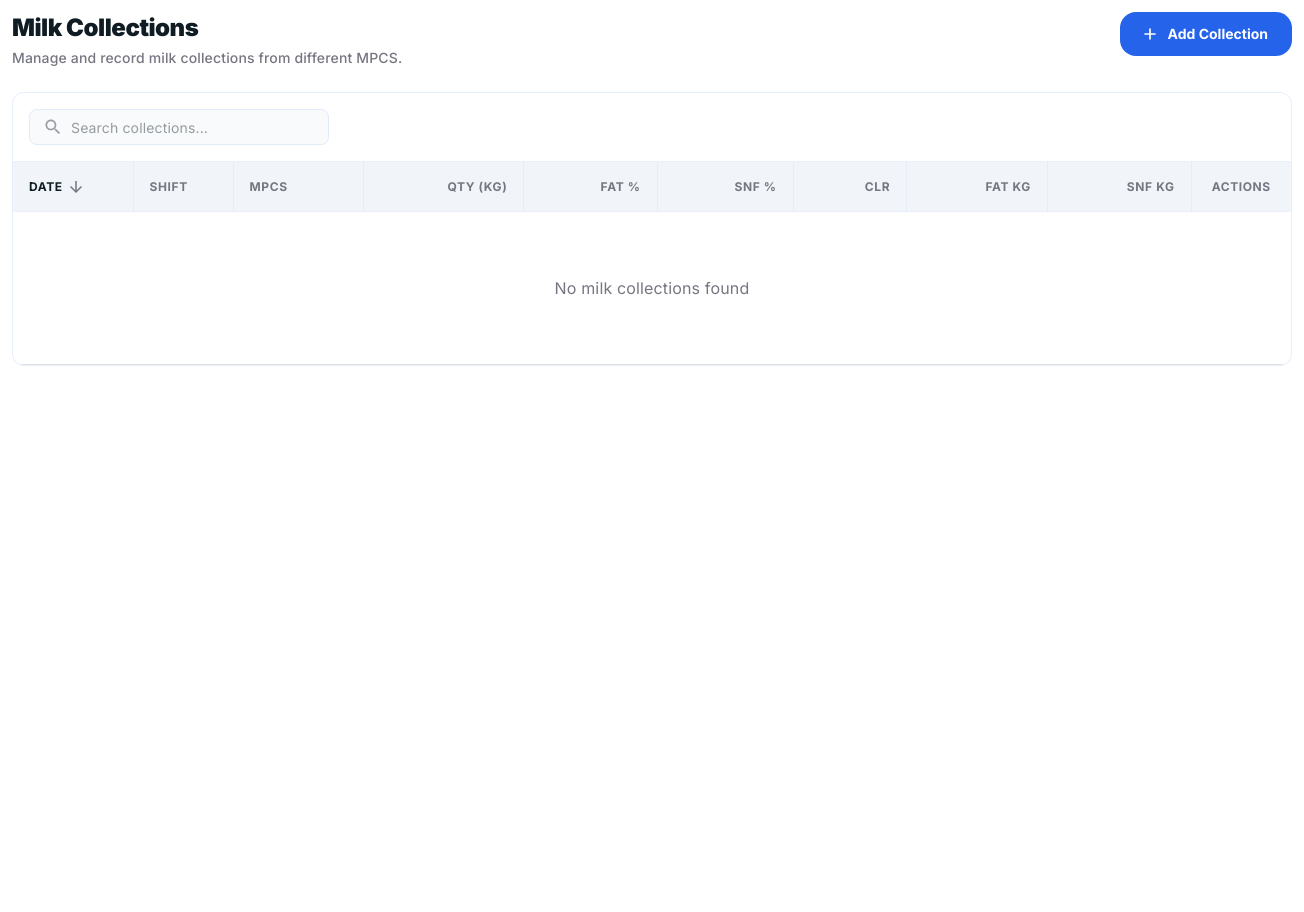
Test case: MilkCollectionsPage › renders the action buttons
The width and height of the screenshot is (1304, 912).
# Open form
Click the button "Add Collection" at (1206, 34), box [1120, 12, 1292, 56]
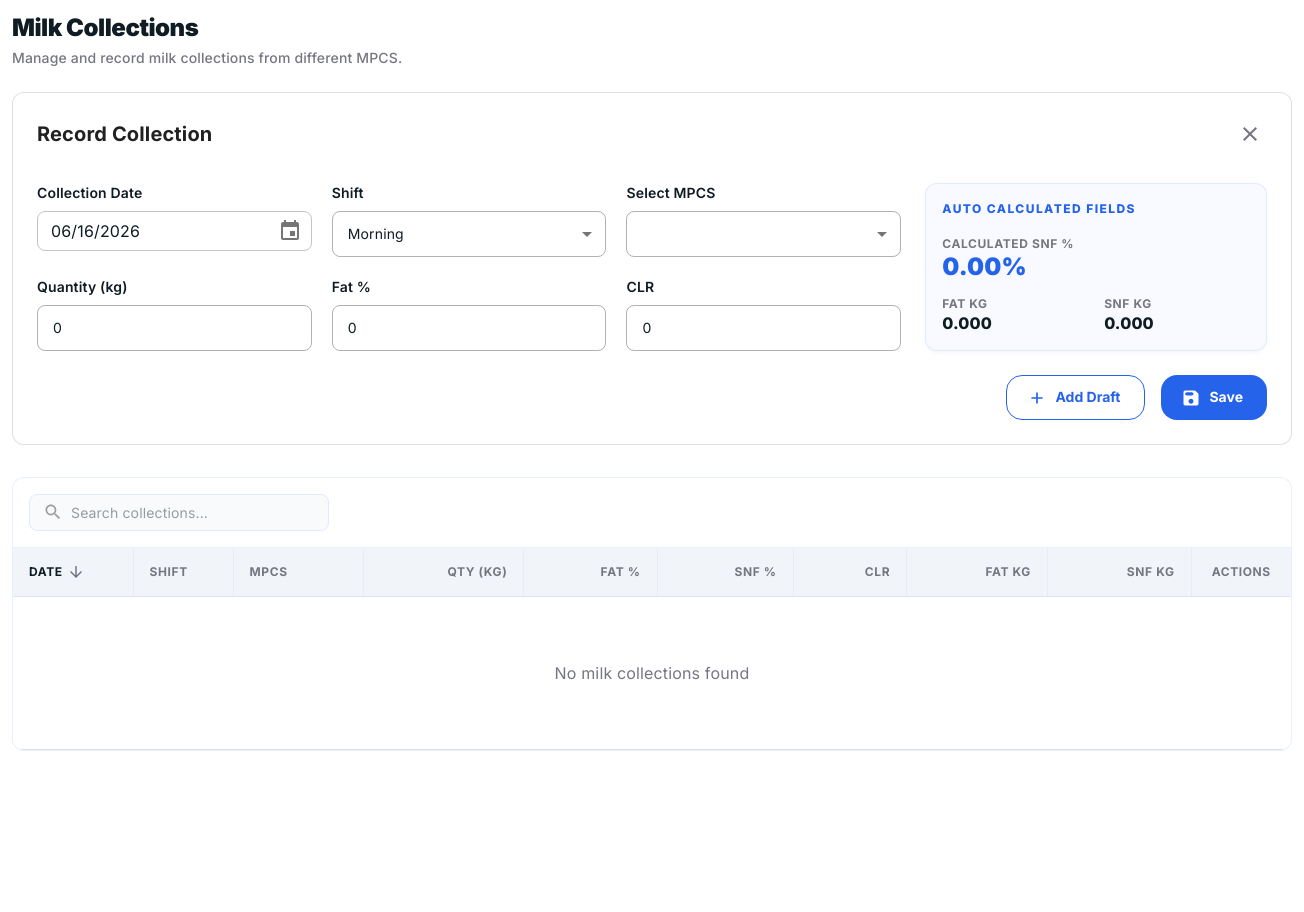
Expected: the button "Add Draft" is shown, [1006, 375, 1146, 420]
Expected: the button "Save" is shown, [1162, 375, 1267, 420]
